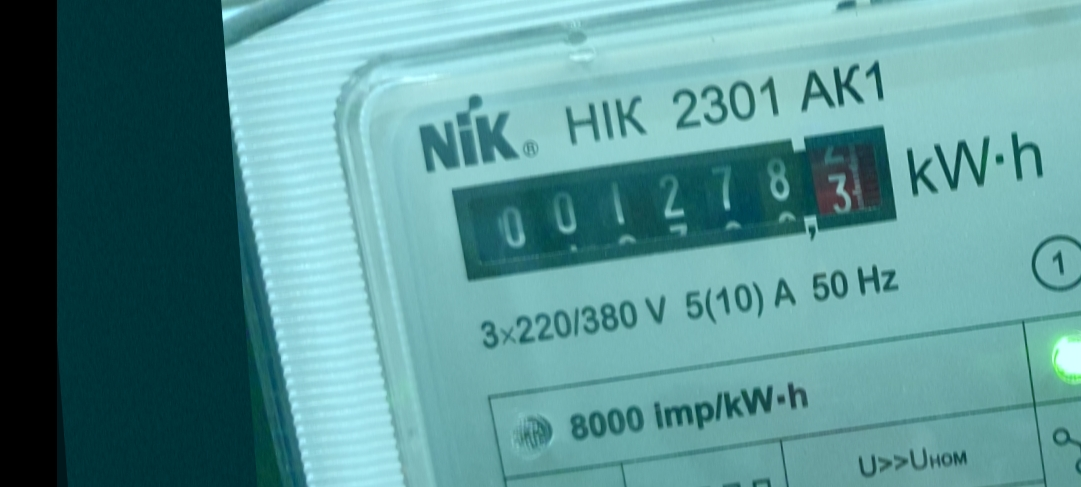0: (502, 200, 533, 250), (553, 187, 582, 236)
1: (612, 177, 632, 227)
2: (659, 170, 690, 219), (823, 143, 850, 166)
3: (828, 168, 857, 213)
7: (714, 162, 739, 212)
8: (767, 154, 796, 202)
screen: (433, 113, 920, 291)
